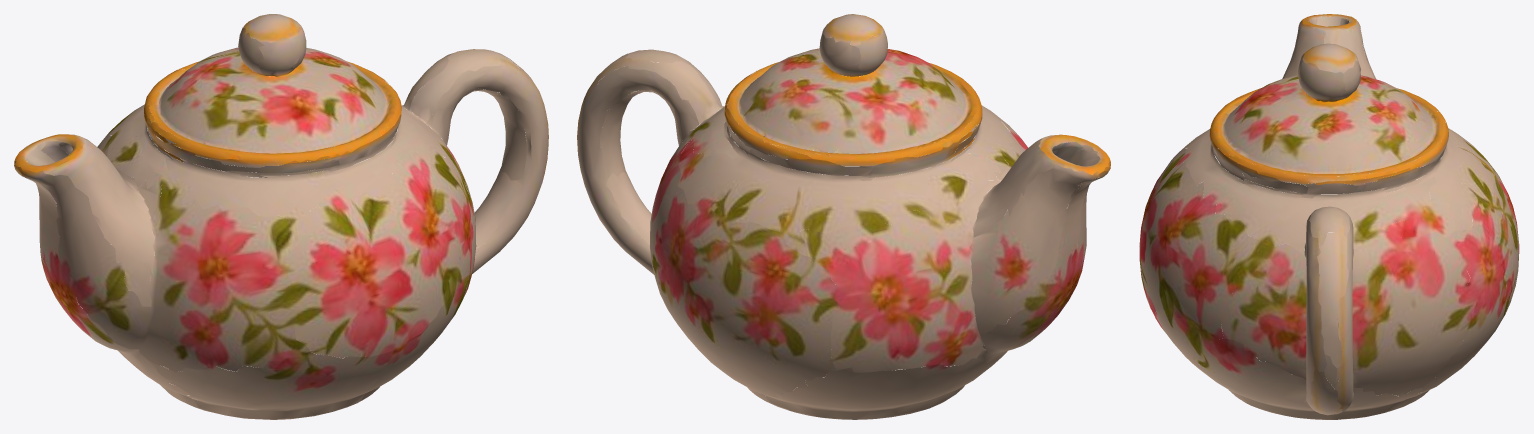
Rendered from teapot.glb.
3 renders of one model, left to right at view 1: azimuth 30°, elevation 25°; view 2: azimuth 150°, elevation 25°; view 3: azimuth 270°, elevation 25°, orthographic. The views are drawn at different scales.
Visible parts, largest first — view 1: textured_mesh.obj; view 2: textured_mesh.obj; view 3: textured_mesh.obj.
Boxes of the visible parts, x1,y1,x2,y2 form: textured_mesh.obj: (14, 14, 548, 419); textured_mesh.obj: (577, 14, 1110, 419); textured_mesh.obj: (1139, 14, 1519, 419).
Bounding box in the file's own units: 1.55 × 1 × 1.04.
Materials: 1 (1 with a texture image).
